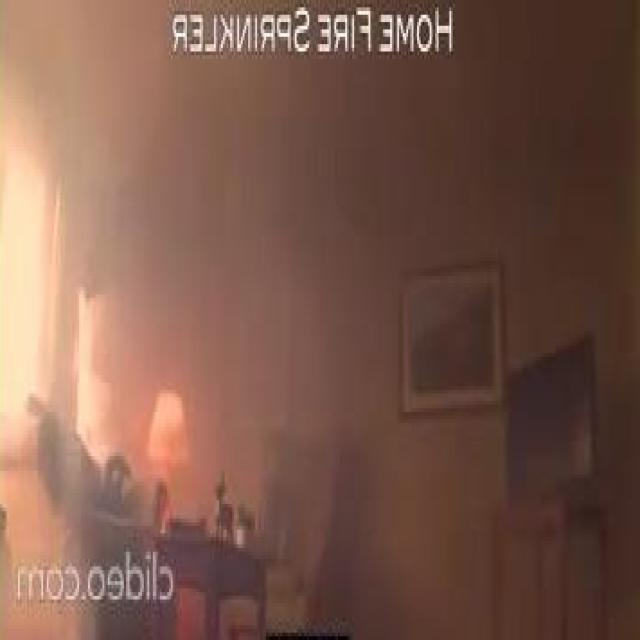smoke: (162, 501, 171, 534)
